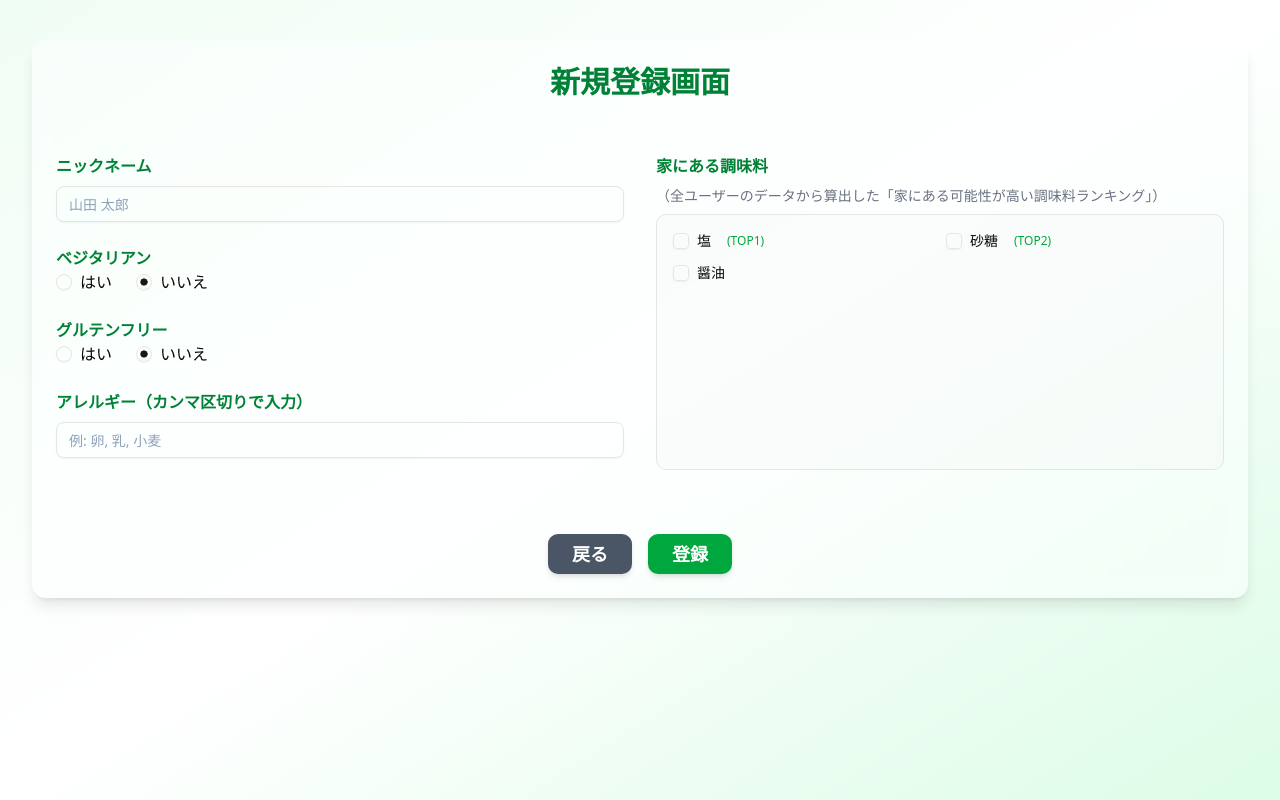
Scenario: 新規登録画面 › グルテンフリーのラジオボタンの「はい」を選択できる
//  「はい」を選択
Click the radio button with test id "is_gluten_freeYes": (64, 354) [56, 346, 72, 362]
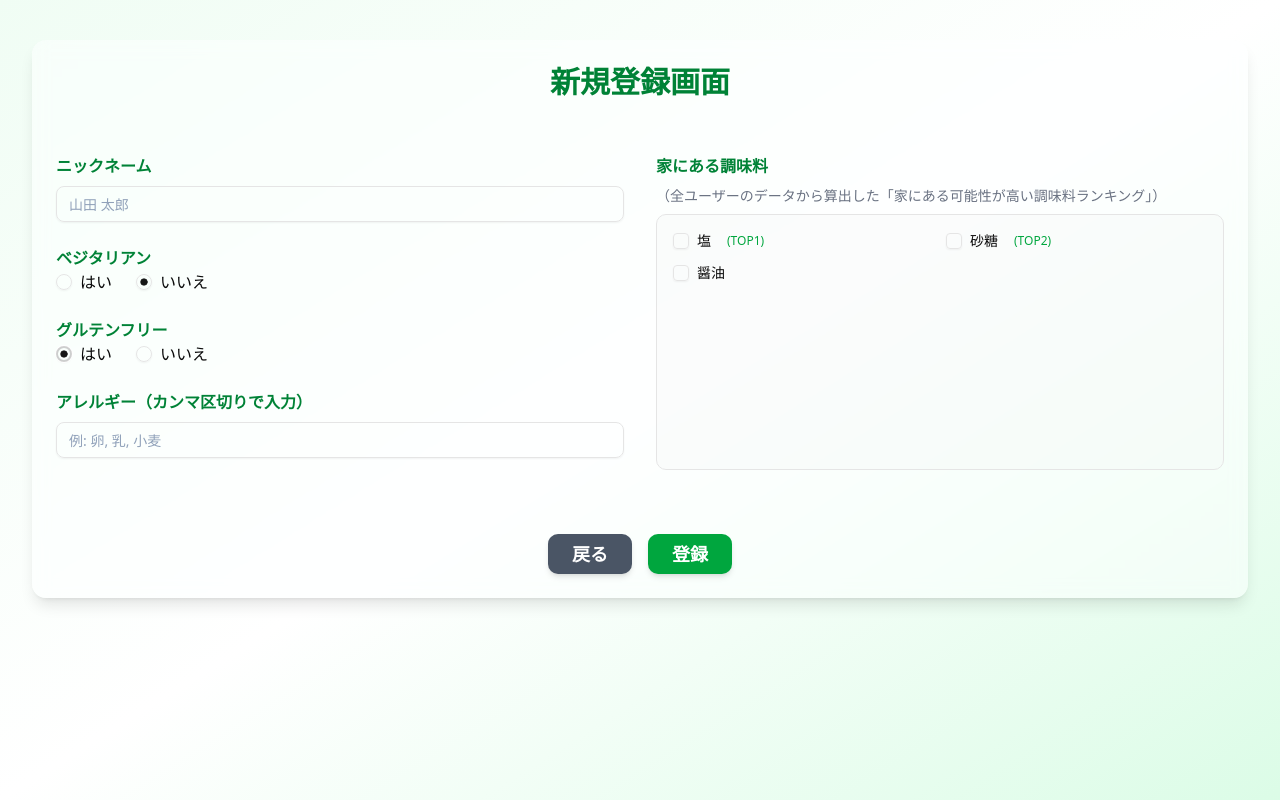
Now the radio button with test id "is_gluten_freeYes" is checked, box [56, 346, 72, 362]
Now the radio button with test id "is_gluten_freeNo" is not checked, box [136, 346, 152, 362]
